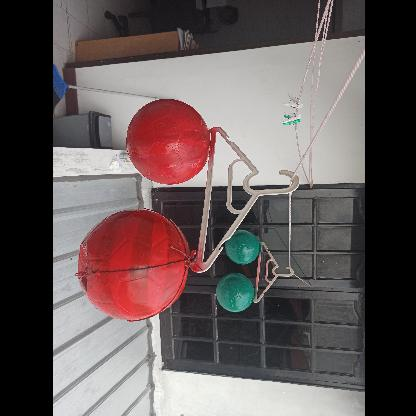red_ball: (76, 210, 188, 322), (126, 100, 210, 184)
